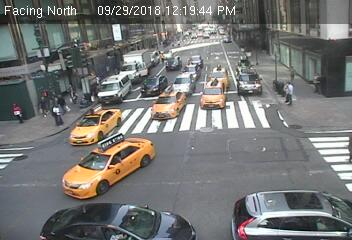car: (228, 186, 352, 240), (36, 201, 196, 240), (61, 134, 158, 198), (68, 107, 123, 145), (150, 89, 185, 120), (233, 68, 265, 98), (98, 74, 132, 102), (120, 50, 150, 81), (200, 78, 226, 112), (140, 73, 169, 99), (172, 70, 195, 96), (182, 64, 201, 81), (187, 53, 205, 68), (163, 55, 182, 68), (148, 48, 162, 65), (221, 34, 230, 44), (201, 31, 210, 40), (189, 30, 197, 38), (197, 30, 203, 36)
